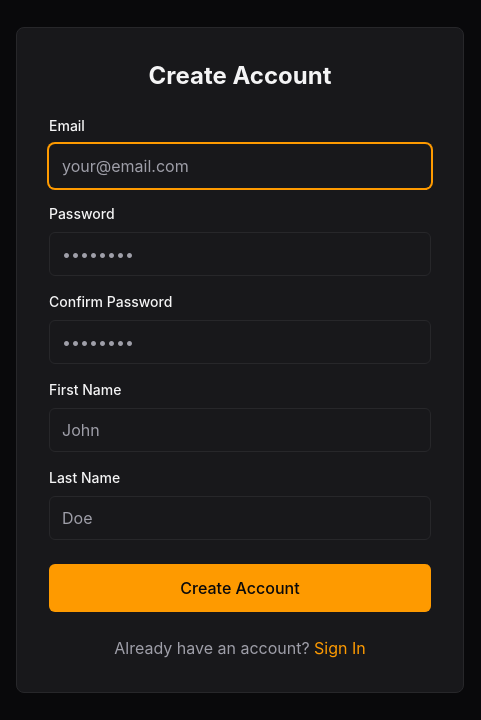
Scenario: Phase 1+2: Foundation, Auth Store & Auth UI › RegisterPage (AUTH-01) › validates password confirmation mismatch (AUTH-01)
Step 1. Type "password123" into the password field labelled "Password" → {"x": 240, "y": 254}, box [49,232,431,276]
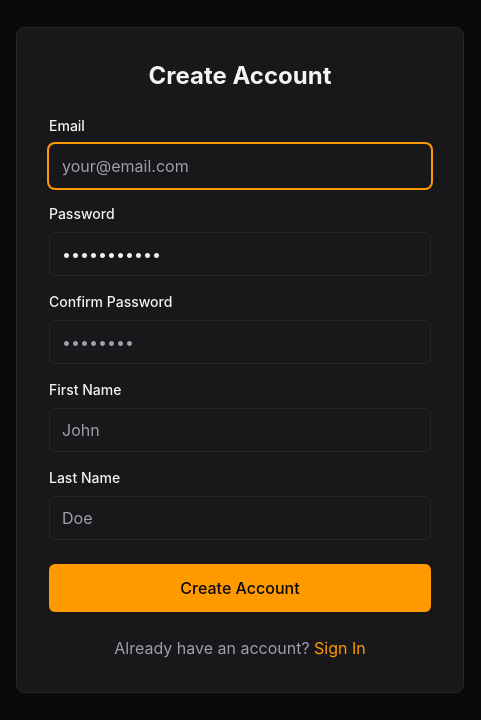
Step 2. Type "different" into the password field labelled "Confirm Password" → {"x": 240, "y": 342}, box [49,320,431,364]
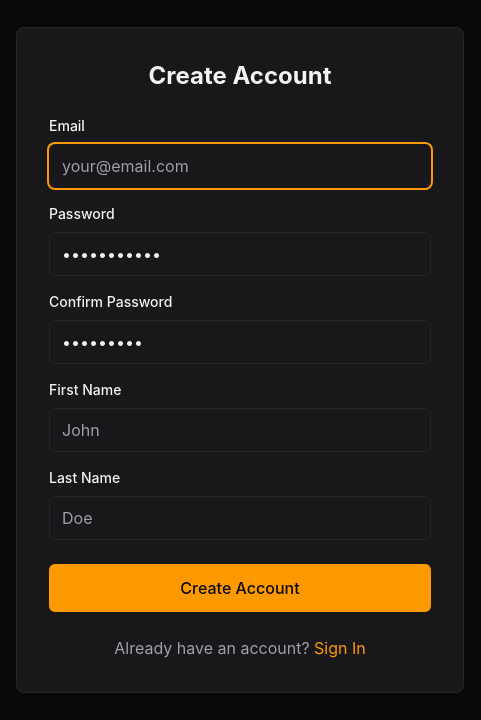
Step 3. Leave the password field labelled "Confirm Password", box [49,320,431,364]
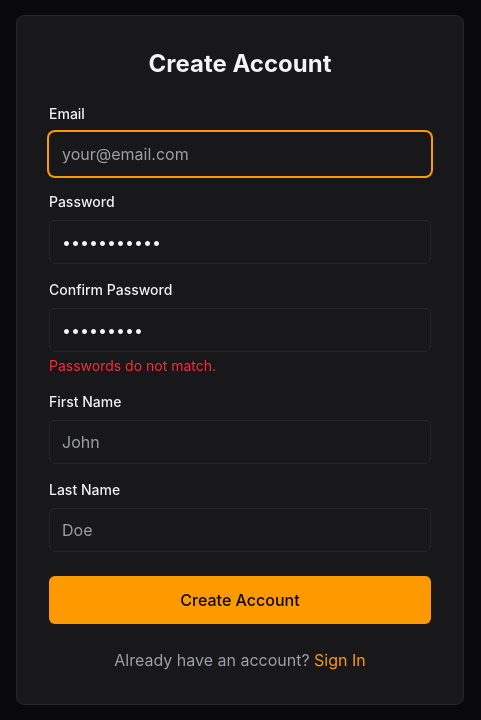
Check: the text "Passwords do not match." is shown, box [49,357,216,374]
